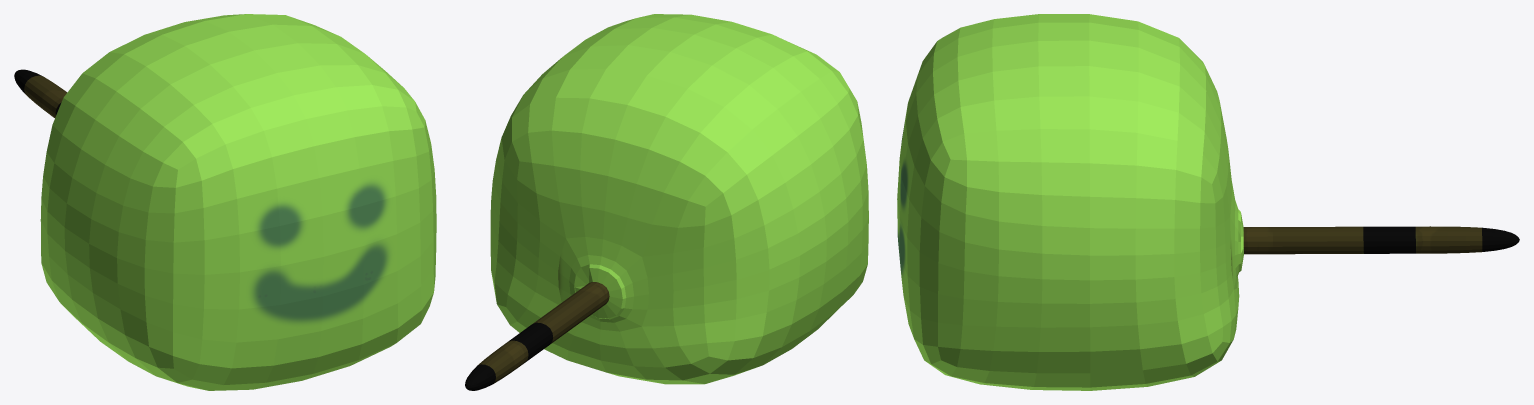
File: goo.fbx
3 renders of one model, left to right at view 1: azimuth 30°, elevation 25°; view 2: azimuth 150°, elevation 25°; view 3: azimuth 270°, elevation 25°, orthographic. The views are drawn at different scales.
Parts seen in each view (by area): view 1: Cone; view 2: Cone; view 3: Cone.
Boxes of the visible parts, <box> form: Cone: <box>14,14,436,390</box>; Cone: <box>465,14,868,390</box>; Cone: <box>897,14,1519,390</box>.
Bounding box in the file's own units: 265 × 241 × 428.
1 material, 1 textured.
